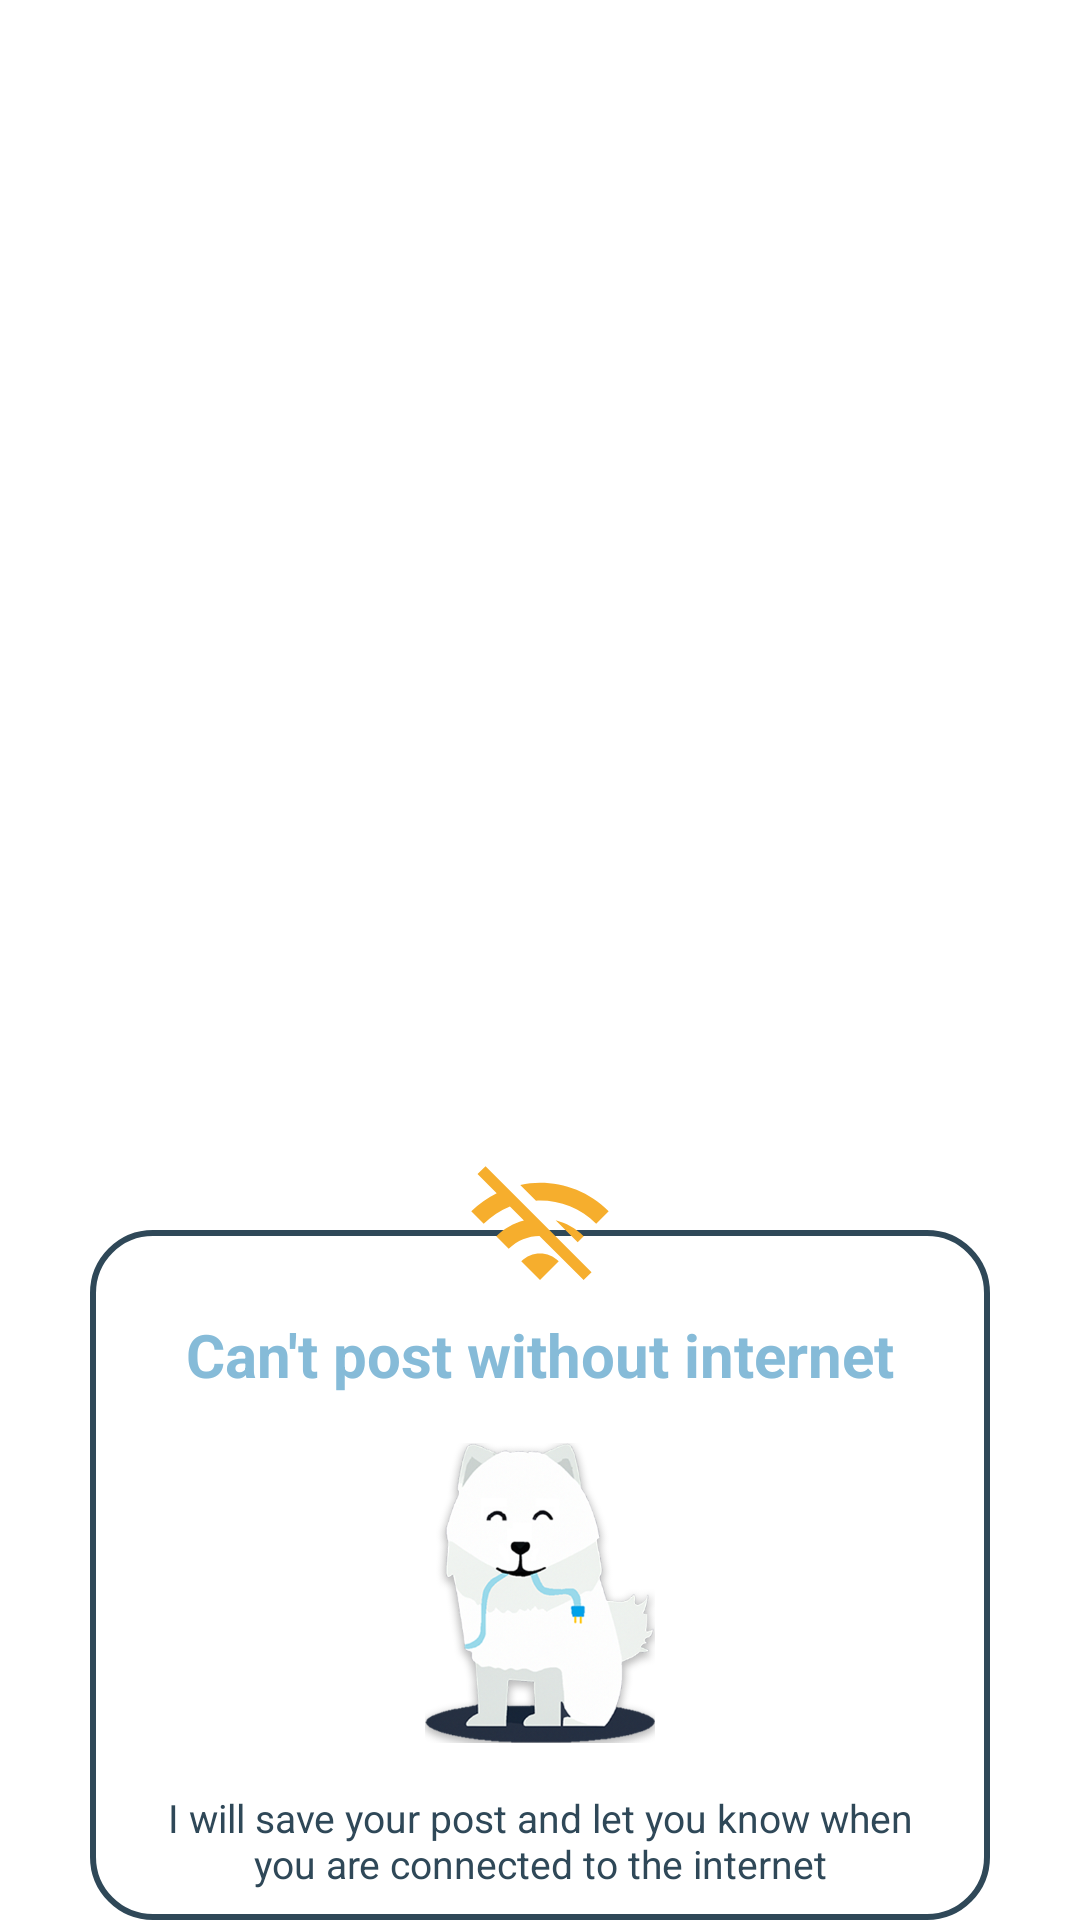

Named icons in this screenshot (1080*1920) and their bounding boxes, [x1=x1, y1=y1, x2=x2, y2=y2]:
doggy disconnected: [x1=425, y1=1444, x2=655, y2=1743]
wifi off: [x1=465, y1=1166, x2=615, y2=1280]
